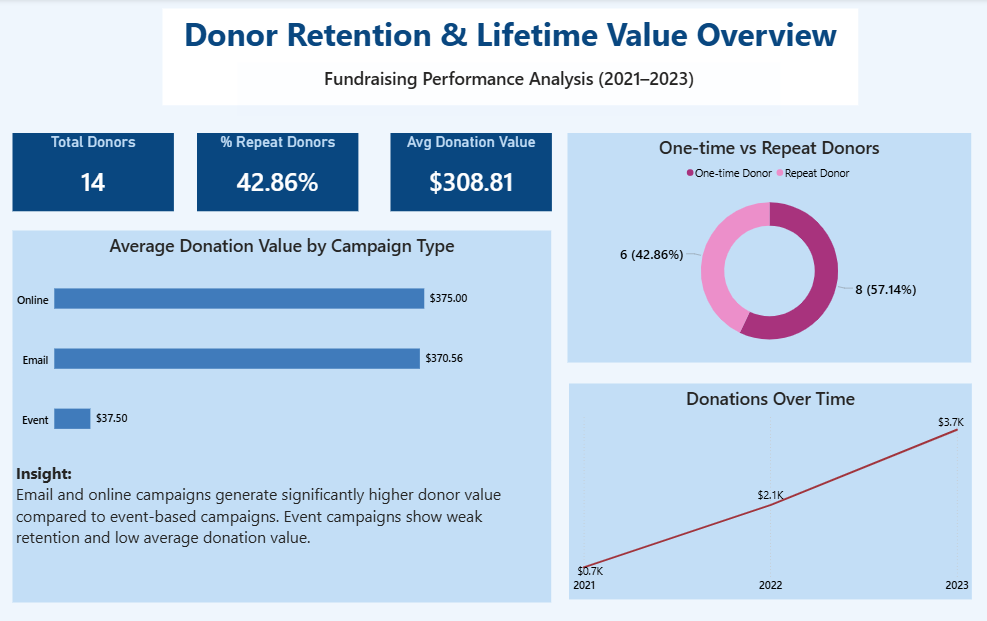

Layout of this report page (visuals, bound fields, positions):
{"tool":"powerbi","page":{"name":"Page 1","canvas":[1500,950],"ordinal":0},"visuals":[{"type":"cardVisual","title":"Total Donors","fields":{"Data":["public campaigns.Total Donors"]},"box":[20.6,203.6,244.7,118.9],"z":0},{"type":"cardVisual","title":"% Repeat Donors","fields":{"Data":["public campaigns.% Repeat Donors"]},"box":[299.6,203.6,244.7,118.9],"z":1000},{"type":"cardVisual","title":"Avg Donation Value","fields":{"Data":["Avg(public donations.donation_amount)"]},"box":[592.4,203.6,244.7,118.9],"z":2000},{"type":"donutChart","title":"One-time vs Repeat Donors","fields":{"Category":["public donations.Donor Segment"],"Y":["Count(public donations.donor_id)"]},"box":[861.8,204.7,611.7,347.9],"z":3000},{"type":"textbox","box":[247,16,1054.4,146.4],"z":4000},{"type":"lineChart","title":"Donations Over Time","fields":{"Category":["public donations.donation_date.Variation.Date Hierarchy.Year","public donations.donation_date.Variation.Date Hierarchy.Quarter","public donations.donation_date.Variation.Date Hierarchy.Month","public donations.donation_date.Variation.Date Hierarchy.Day"],"Y":["Sum(public donations.donation_amount)"]},"box":[864.6,585.5,610.7,327.1],"z":5000},{"type":"clusteredBarChart","title":"Average Donation Value by Campaign Type","fields":{"Y":["Avg(public donations.donation_amount)"],"Category":["public campaigns.campaign_type"]},"box":[20.5,352.5,816.3,347.9],"z":6000},{"type":"textbox","box":[361.4,98.4,823.4,80.1],"z":7000},{"type":"textbox","box":[20.5,700.4,816.3,216],"z":8000}]}

Visuals, with their boxes in screenshot pixels (x1, y1, x2, y2), scaled from the page's 1500x950 canvas onto the 987x621 screenshot:
"Total Donors" cardVisual: box(14, 133, 175, 211)
"% Repeat Donors" cardVisual: box(197, 133, 358, 211)
"Avg Donation Value" cardVisual: box(390, 133, 551, 211)
"One-time vs Repeat Donors" donutChart: box(567, 134, 970, 361)
textbox: box(163, 10, 856, 106)
"Donations Over Time" lineChart: box(569, 383, 971, 597)
"Average Donation Value by Campaign Type" clusteredBarChart: box(13, 230, 551, 458)
textbox: box(238, 64, 780, 117)
textbox: box(13, 458, 551, 599)
